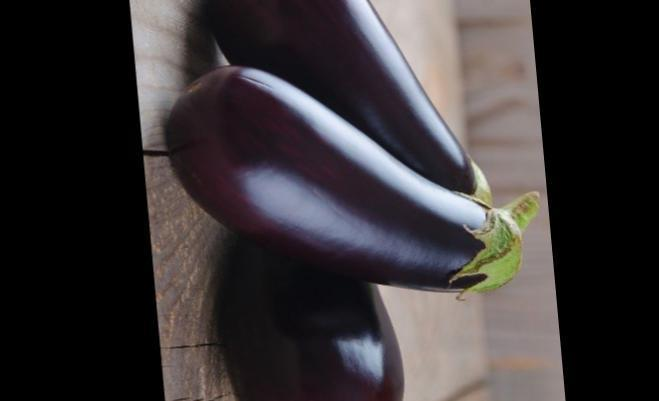eggplant: (172, 0, 541, 315), (192, 225, 401, 400)
